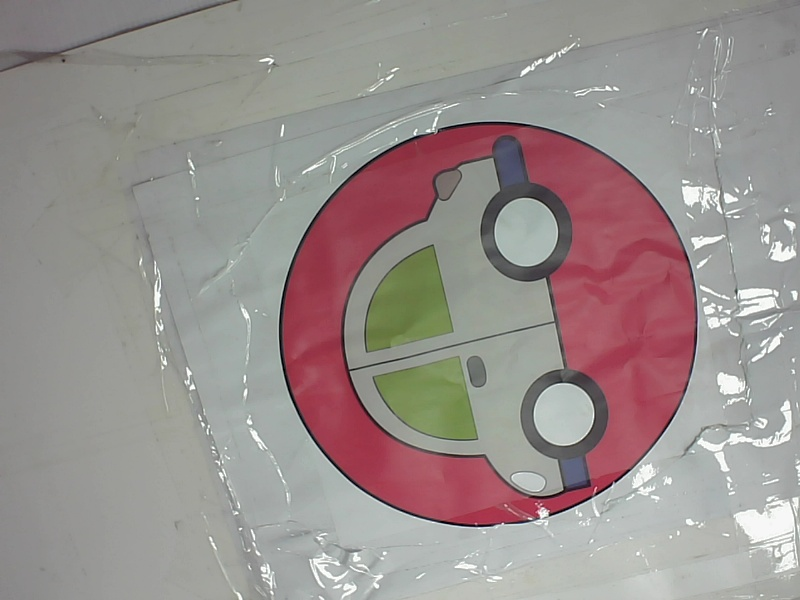areaC: (275, 121, 707, 534)
